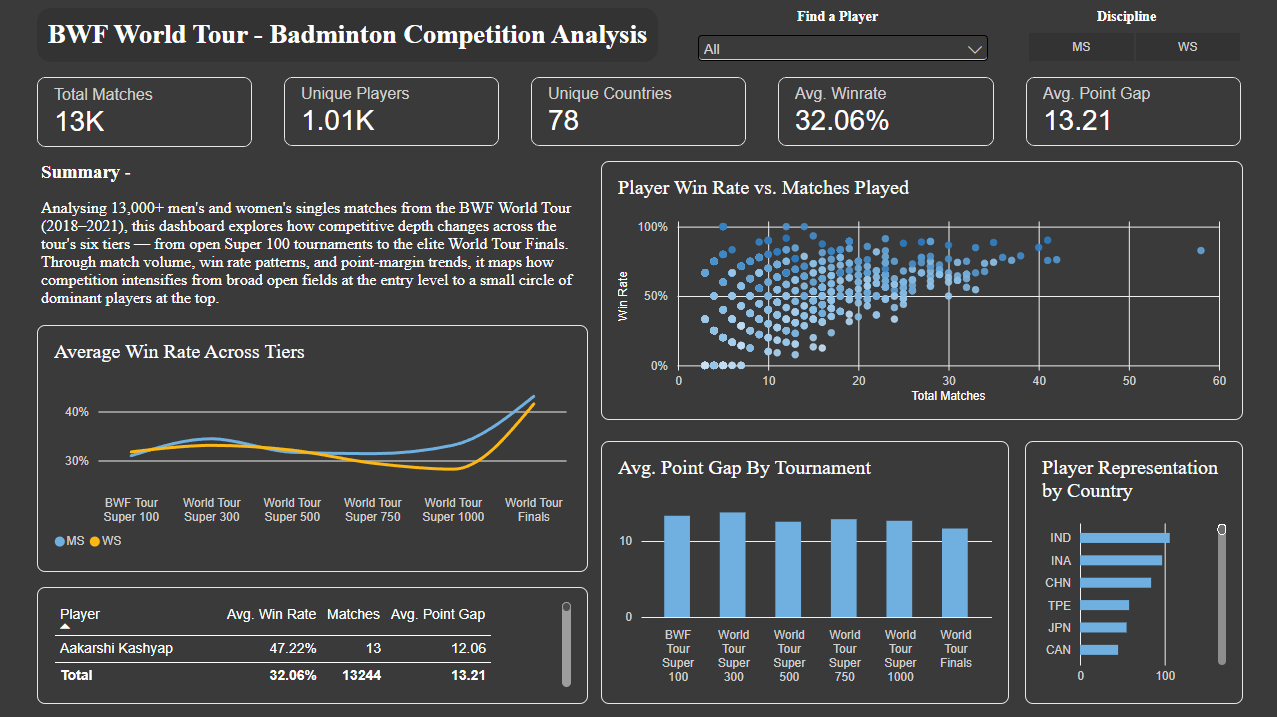

This screenshot's page, from the dashboard's own definition file:
{"tool":"powerbi","page":{"name":"Overview","canvas":[1280,720],"ordinal":0},"visuals":[{"type":"shape","box":[38,11,621,54],"z":0},{"type":"textbox","box":[390.7,79.9,389.9,49.2],"z":1000},{"type":"textbox","box":[41.8,22.4,608.9,31.1],"z":2000},{"type":"lineChart","title":"Average Win Rate Across Tiers","fields":{"Category":["combined_discipline_final.Tournament Type"],"Y":["Avg(combined_discipline_final.Win Rate)"],"Series":["combined_discipline_final.Discipline"]},"box":[37.9,327.8,551.5,247.1],"z":3000},{"type":"columnChart","title":"Avg. Point Gap By Tournament","fields":{"Category":["combined_discipline_final.Tournament Type"],"Y":["Avg(combined_discipline_final.Avg. Point Gap)"]},"box":[602.3,444.3,407.4,262.5],"z":4000},{"type":"cardVisual","fields":{"Data":["Sum(combined_discipline_final.Total Matches)"]},"box":[37.9,79.9,215.1,69.4],"z":5000,"group":"g2"},{"type":"scatterChart","title":"Player Win Rate vs. Matches Played","fields":{"Y":["combined_discipline_final.Win Rate"],"X":["combined_discipline_final.Total Matches"],"Series":["combined_discipline_final.Player"]},"box":[602,164,642,259],"z":5000},{"type":"group","id":"g1","title":"Group 1","box":[1008.9,10.5,251.1,54.4],"z":6000},{"type":"cardVisual","fields":{"Data":["Count(combined_discipline_final.Player)"]},"box":[285,79.8,215.1,69.4],"z":6000,"group":"g2"},{"type":"cardVisual","fields":{"Data":["Count(combined_discipline_final.Country)"]},"box":[532.2,79.8,215.1,69.4],"z":7000,"group":"g2"},{"type":"barChart","title":"Player Representation by Country","fields":{"Category":["combined_discipline_final.Country"],"Y":["Count(combined_discipline_final.Player)"]},"box":[1026.4,444.3,217.8,262.5],"z":7000},{"type":"group","id":"g2","title":"Group 2","box":[37.9,79.8,1204.1,69.1],"z":8000},{"type":"cardVisual","fields":{"Data":["Avg(combined_discipline_final.Win Rate)"]},"box":[779.3,79.8,215.1,69.4],"z":8000,"group":"g2"},{"type":"slicer","title":"Discipline","fields":{"Values":["combined_discipline_final.Discipline"]},"box":[1008.9,33.3,250.9,32.1],"z":9000,"group":"g1"},{"type":"textbox","box":[42,164,546.6,181.9],"z":9000},{"type":"tableEx","fields":{"Values":["combined_discipline_final.Player","Avg(combined_discipline_final.Win Rate)","Sum(combined_discipline_final.Total Matches)","Avg(combined_discipline_final.Avg. Point Gap)"]},"box":[37.8,590,551.4,116.8],"z":10000},{"type":"textbox","box":[1098,10.5,66.1,22.4],"z":10001,"group":"g1"},{"type":"slicer","fields":{"Values":["combined_discipline_final.Player"]},"box":[694.5,33.1,299.6,35],"z":11000},{"type":"textbox","box":[797.6,10.7,92.4,22.4],"z":12000},{"type":"cardVisual","fields":{"Data":["Avg(combined_discipline_final.Avg. Point Gap)"]},"box":[1026.5,79.8,215.1,69.4],"z":13000,"group":"g2"}]}

Visuals, with their boxes in screenshot pixels (x1, y1, x2, y2), scaled from the page's 1280x720 canvas onto the 1277x717 screenshot:
shape: bbox(38, 11, 657, 65)
textbox: bbox(390, 80, 779, 129)
textbox: bbox(42, 22, 649, 53)
"Average Win Rate Across Tiers" lineChart: bbox(38, 326, 588, 573)
"Avg. Point Gap By Tournament" columnChart: bbox(601, 442, 1007, 704)
cardVisual - Sum(combined_discipline_final.Total Matches): bbox(38, 80, 252, 149)
"Player Win Rate vs. Matches Played" scatterChart: bbox(601, 163, 1241, 421)
"Group 1" group: bbox(1007, 10, 1257, 65)
cardVisual - Count(combined_discipline_final.Player): bbox(284, 79, 499, 149)
cardVisual - Count(combined_discipline_final.Country): bbox(531, 79, 746, 149)
"Player Representation by Country" barChart: bbox(1024, 442, 1241, 704)
"Group 2" group: bbox(38, 79, 1239, 148)
cardVisual - Avg(combined_discipline_final.Win Rate): bbox(777, 79, 992, 149)
"Discipline" slicer: bbox(1007, 33, 1257, 65)
textbox: bbox(42, 163, 587, 344)
tableEx - combined_discipline_final.Player x Avg(combined_discipline_final.Win Rate): bbox(38, 588, 588, 704)
textbox: bbox(1095, 10, 1161, 33)
slicer - combined_discipline_final.Player: bbox(693, 33, 992, 68)
textbox: bbox(796, 11, 888, 33)
cardVisual - Avg(combined_discipline_final.Avg. Point Gap): bbox(1024, 79, 1239, 149)
